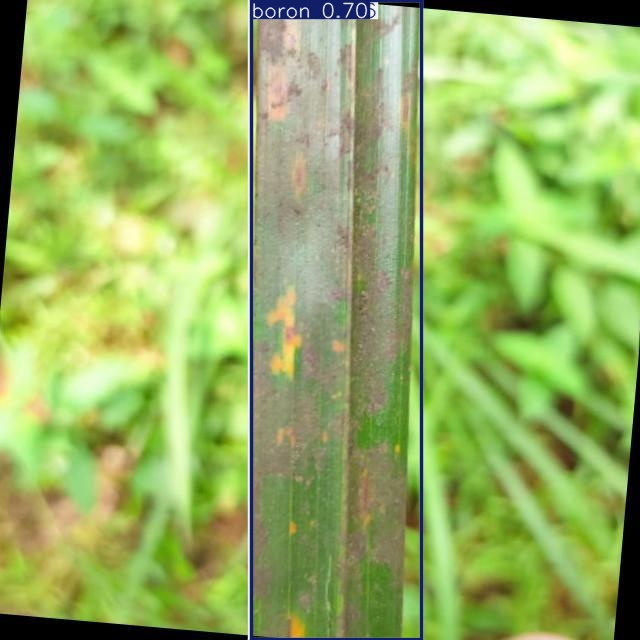Kalium: (249, 1, 421, 640)
nitrogen: (252, 1, 421, 640)
